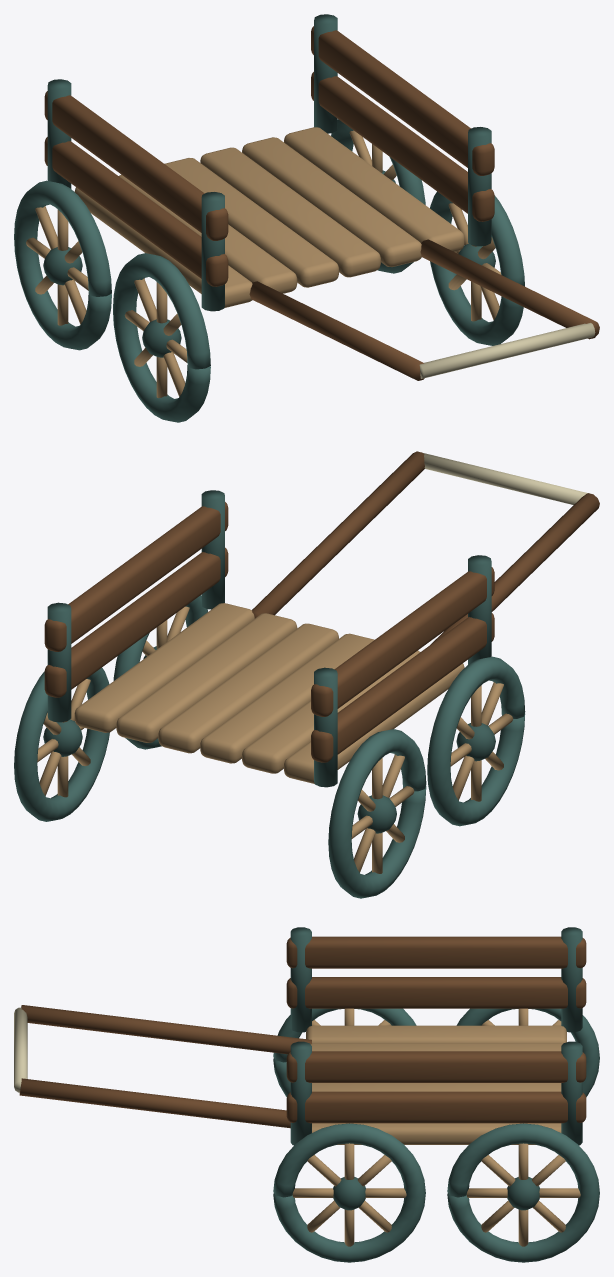
The model's file is creature_cart.glb.
3 views of the same model, one above another, from view 1: azimuth 30°, elevation 25°; view 2: azimuth 150°, elevation 25°; view 3: azimuth 270°, elevation 25° (orthographic). The views are drawn at different scales.
Visible parts, largest first — view 1: creature_cart_part_0; view 2: creature_cart_part_0; view 3: creature_cart_part_0.
Boxes of the visible parts, x1=… form: creature_cart_part_0: x1=14, y1=14, x2=599, y2=422; creature_cart_part_0: x1=14, y1=451, x2=599, y2=898; creature_cart_part_0: x1=14, y1=927, x2=599, y2=1262.
Size of the model in its own units: 1.83 by 1.17 by 3.03.
